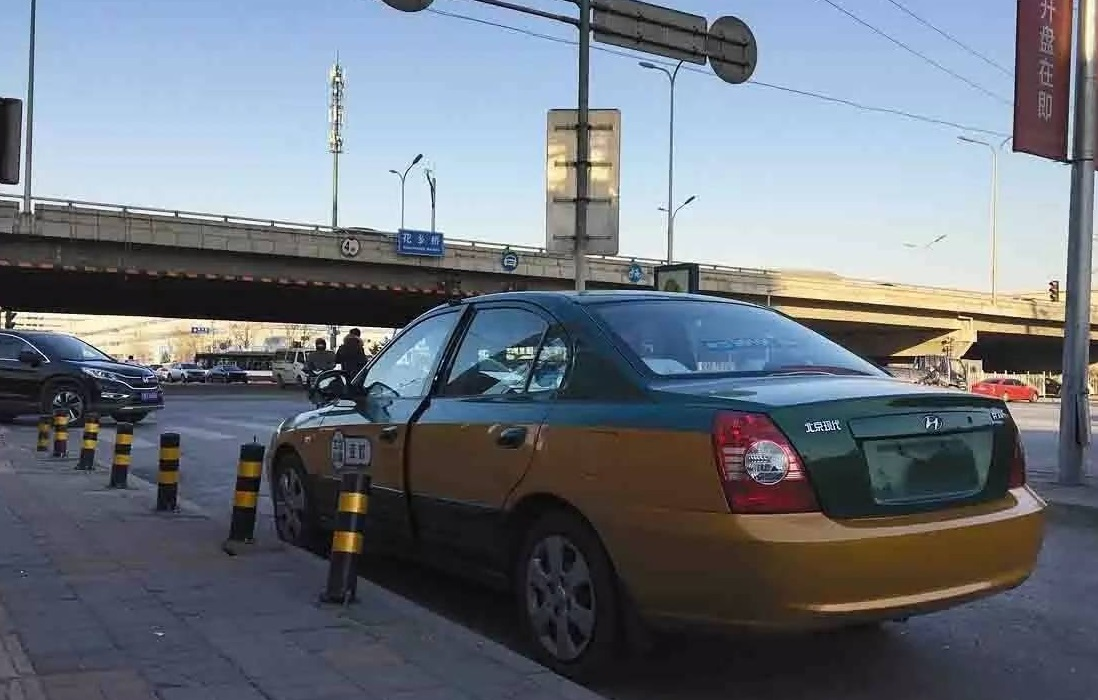taxi: (263, 282, 1051, 688)
